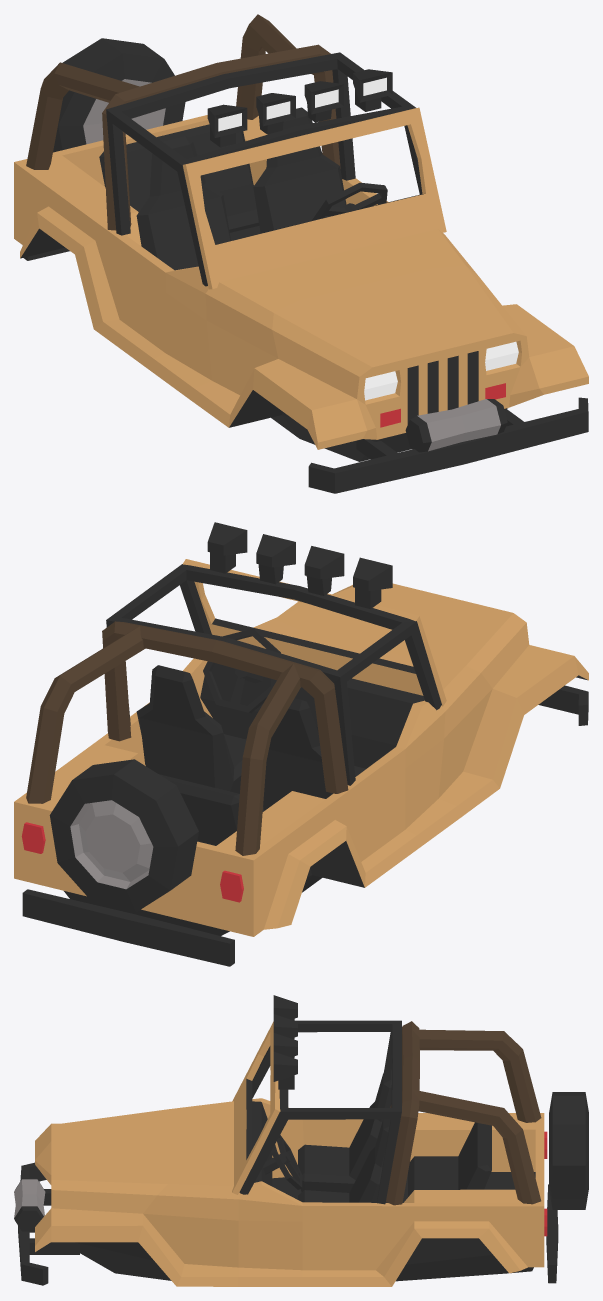
The model's file is jeep-open-base.glb.
The picture shows the model from 3 angles, top to bottom: view 1: azimuth 30°, elevation 25°; view 2: azimuth 150°, elevation 25°; view 3: azimuth 270°, elevation 25°; orthographic projection. The views are drawn at different scales.
Parts seen in each view (by area): view 1: jeep-open-base; view 2: jeep-open-base; view 3: jeep-open-base.
Part boxes in pixels (left/top/right/bottom): jeep-open-base: left=14, top=14, right=588, bottom=493; jeep-open-base: left=14, top=522, right=588, bottom=966; jeep-open-base: left=14, top=995, right=588, bottom=1286.
Bounding box in the file's own units: 1.83 × 1.78 × 4.09.
Materials: 1 (1 with a texture image).
